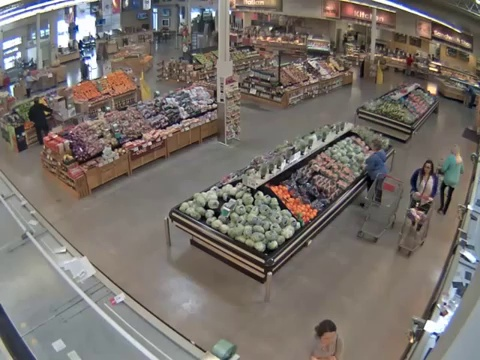face: (322, 329, 336, 344), (366, 142, 378, 154), (423, 164, 431, 174)
